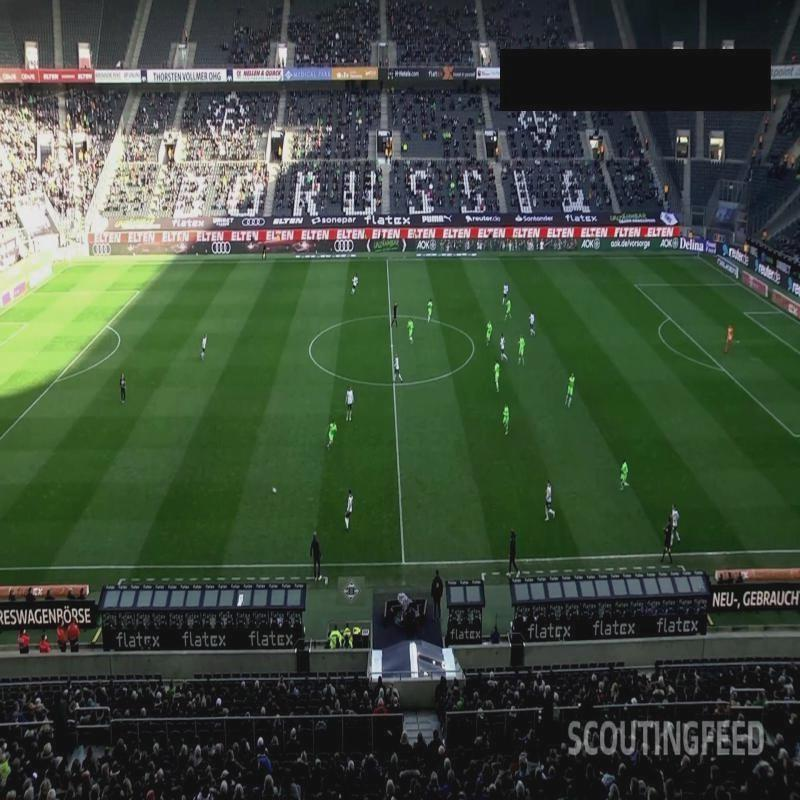1: (63, 257, 81, 273), (692, 250, 706, 264)
10: (98, 318, 116, 334), (664, 308, 678, 322)
11: (714, 362, 732, 376), (49, 372, 64, 386)
12: (788, 427, 800, 441)
13: (381, 251, 395, 265)
14: (382, 307, 396, 321)
15: (386, 376, 400, 390)
16: (396, 554, 410, 568)
2: (730, 278, 746, 291), (24, 284, 38, 298)
3: (772, 304, 786, 318)
7: (21, 315, 36, 329), (738, 307, 752, 320)
9: (626, 276, 644, 294), (133, 283, 147, 297)
c: (304, 342, 318, 356), (468, 340, 480, 353)
